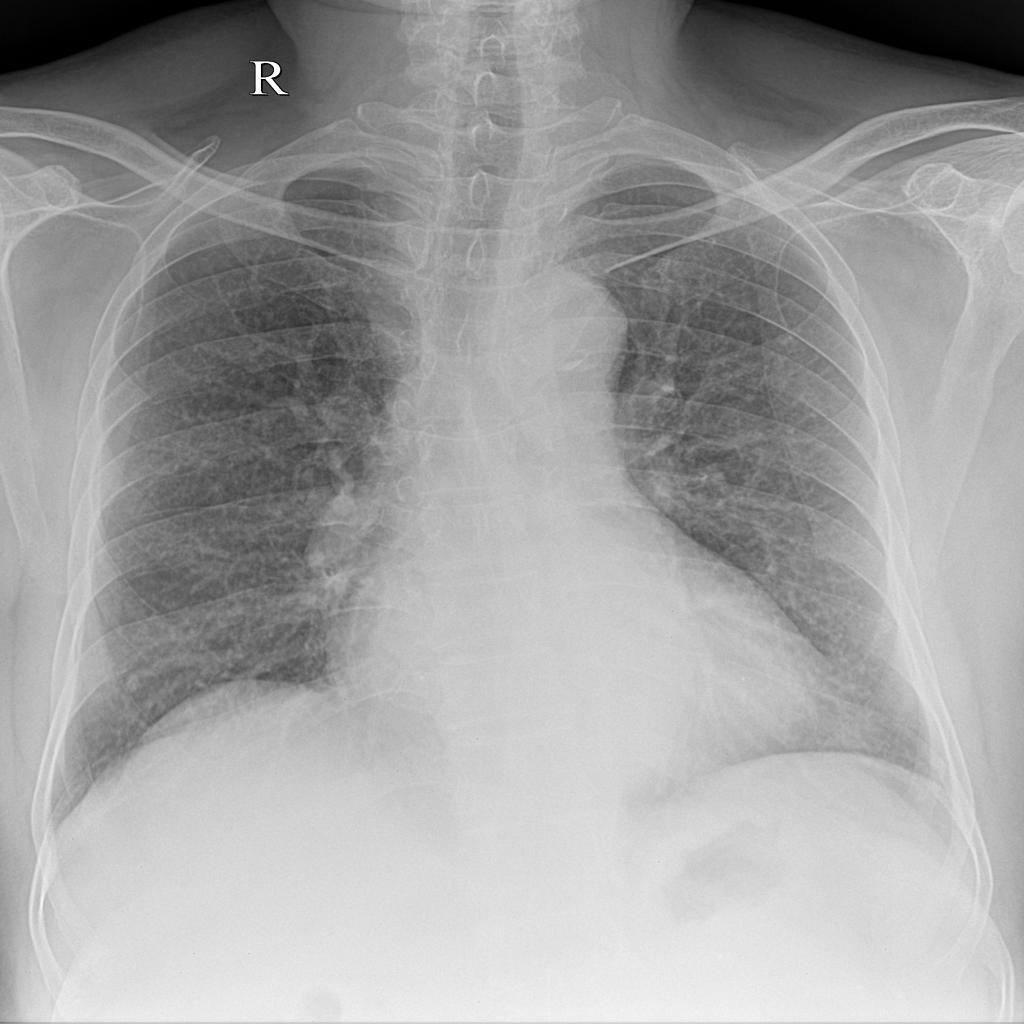Nodule: (123, 669, 157, 701)
